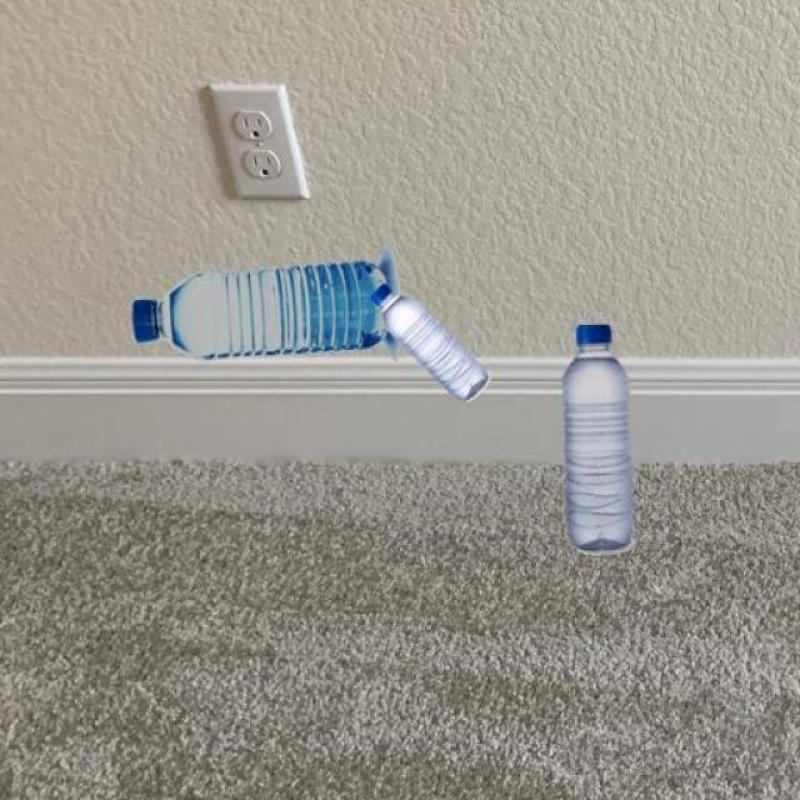botella: (132, 262, 387, 362), (564, 326, 638, 552), (370, 284, 490, 404)
